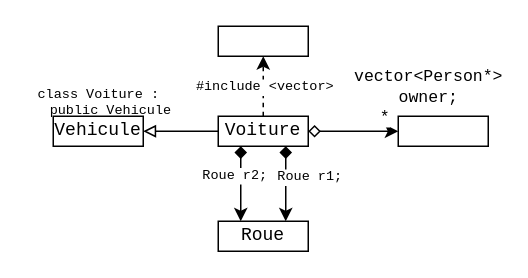
This 528x278 diagram has some shape labels left out. Each missing label, with the centre of its shape:
"Person" belongs at point 442,130.
"vector" belongs at point 262,40.
